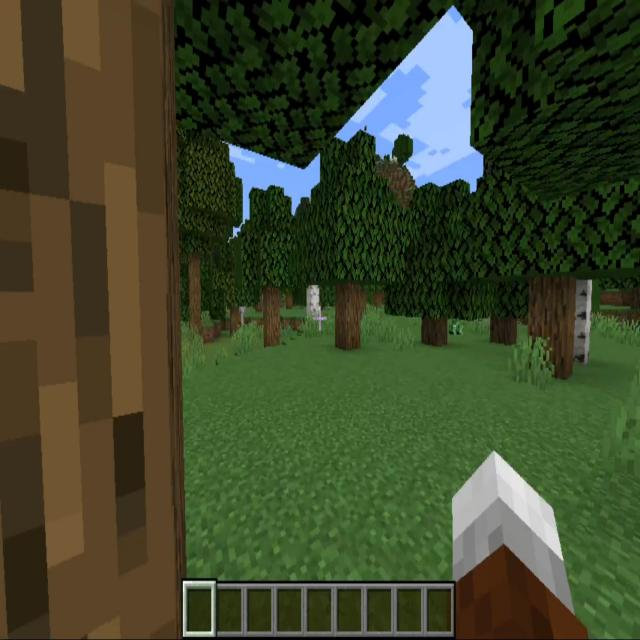Creeper: (450, 314, 464, 336)
Skeleton: (237, 299, 248, 337)
